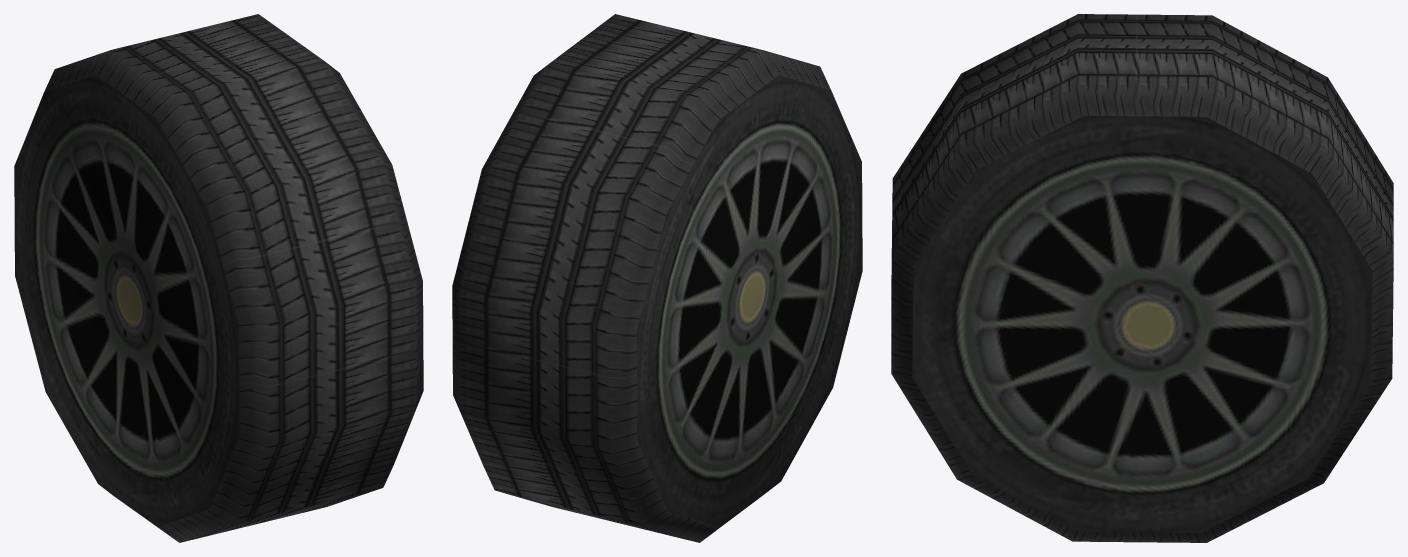
The model's file is WheelHighPower.FBX.
The picture shows the model from 3 angles, left to right: view 1: azimuth 30°, elevation 25°; view 2: azimuth 150°, elevation 25°; view 3: azimuth 270°, elevation 25°; orthographic projection. The views are drawn at different scales.
Parts seen in each view (by area): view 1: wheelHighPower001; view 2: wheelHighPower001; view 3: wheelHighPower001.
Boxes of the visible parts, x1,y1,x2,y2 form: wheelHighPower001: (14, 14, 423, 542); wheelHighPower001: (452, 14, 862, 542); wheelHighPower001: (891, 14, 1393, 542).
Size of the model in its own units: 33.92 by 78.44 by 78.44.
